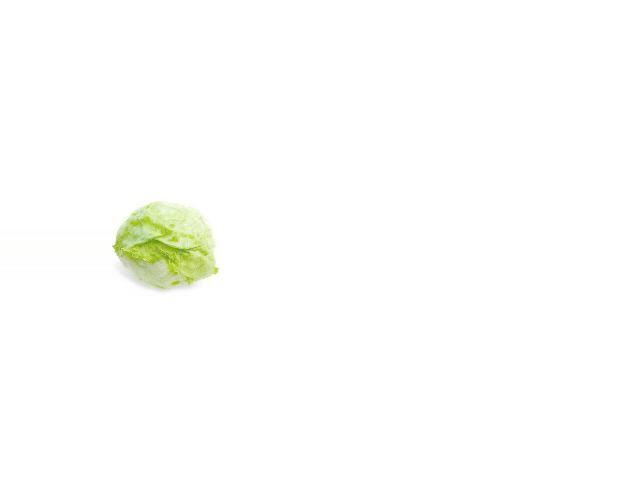lettuce: (114, 194, 217, 294)
